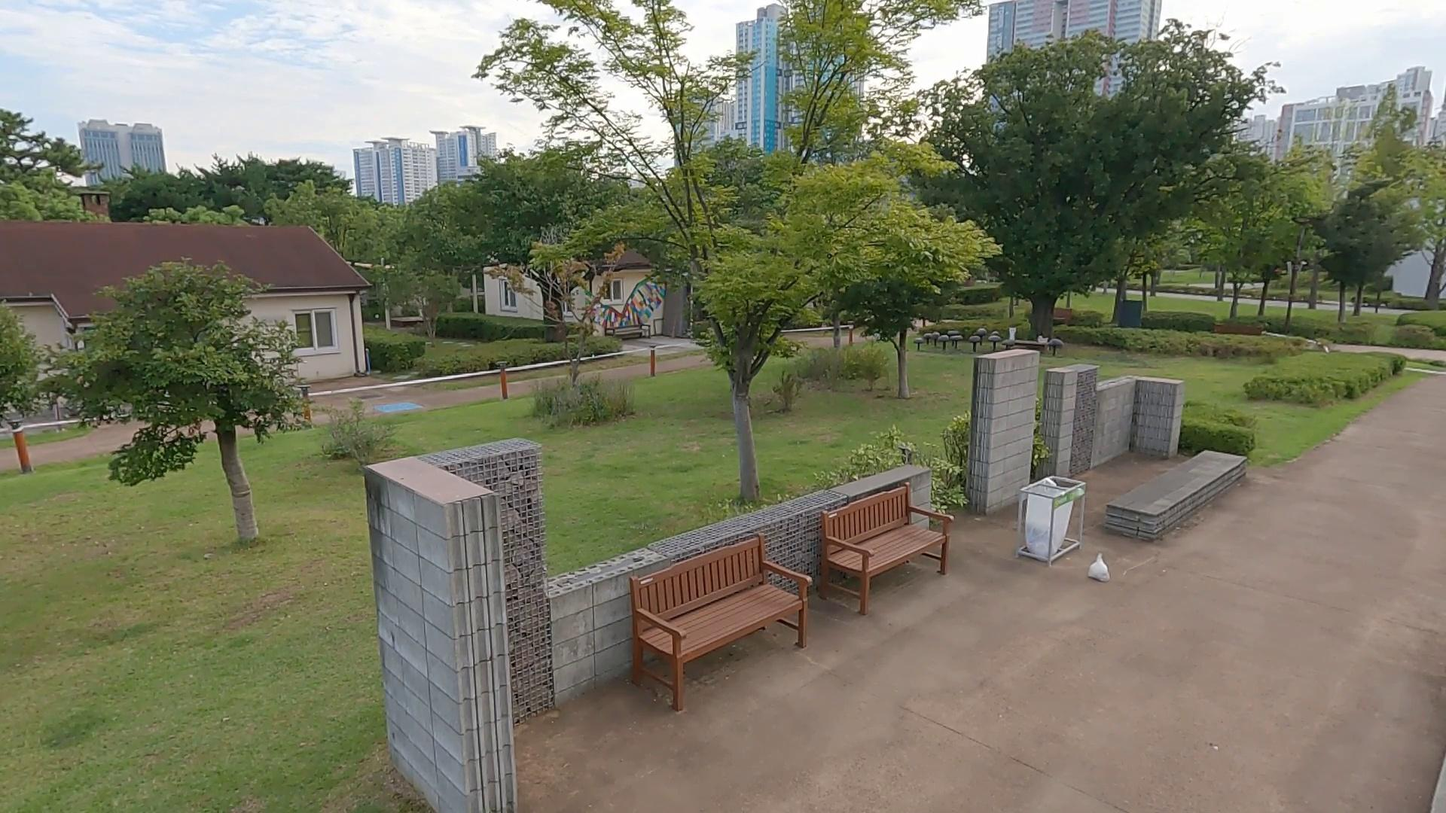trash: (1082, 542, 1118, 592)
